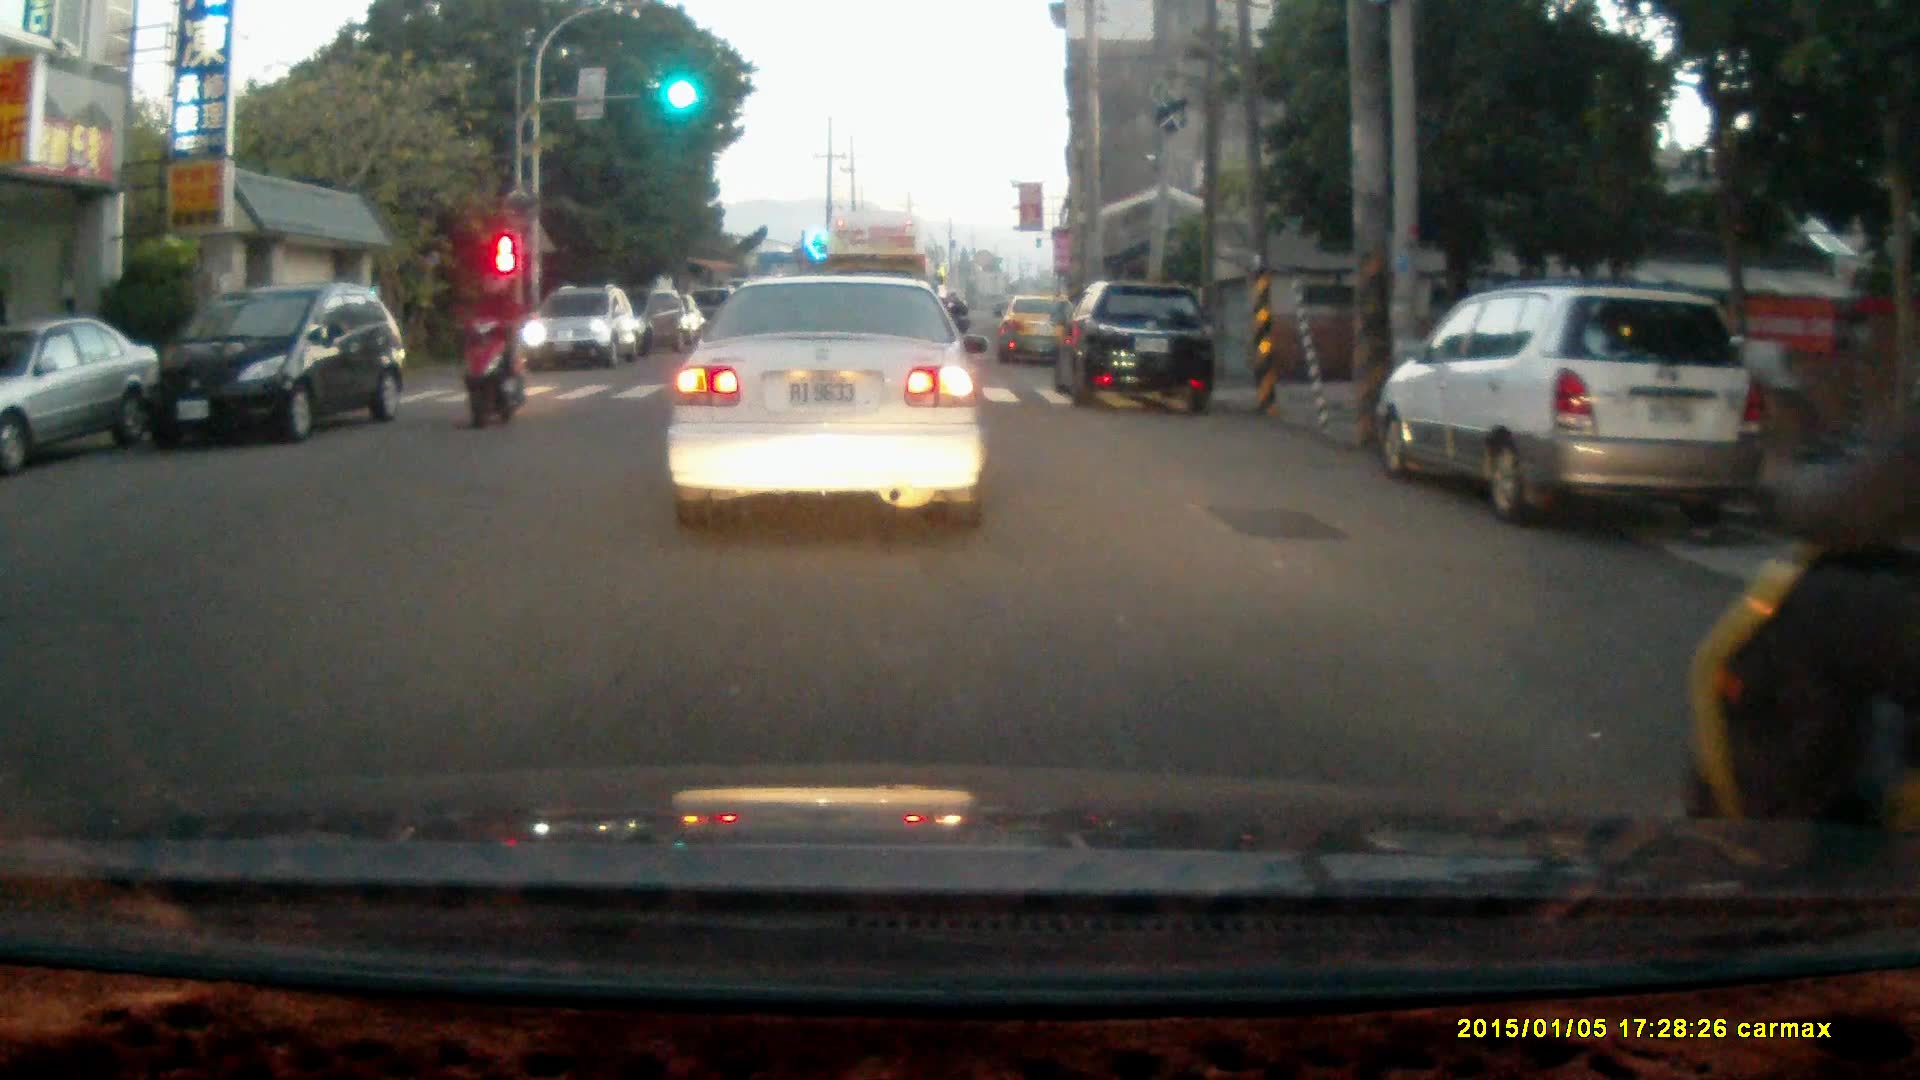rider: (1687, 312, 1920, 924), (461, 266, 527, 432)
vehicle: (1387, 283, 1760, 518), (670, 270, 992, 524), (137, 283, 408, 452), (0, 316, 156, 464), (1056, 278, 1216, 409), (822, 205, 938, 365), (524, 286, 641, 374), (996, 293, 1087, 368)
